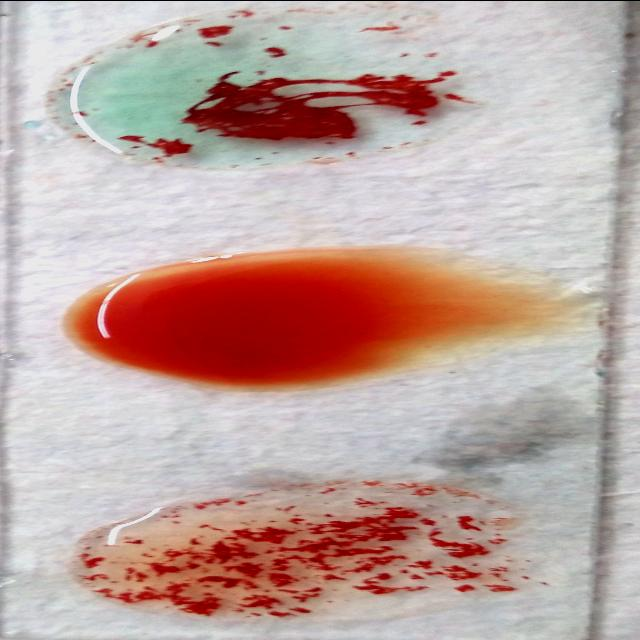A: (52, 13, 490, 171)
D: (80, 477, 541, 622)
